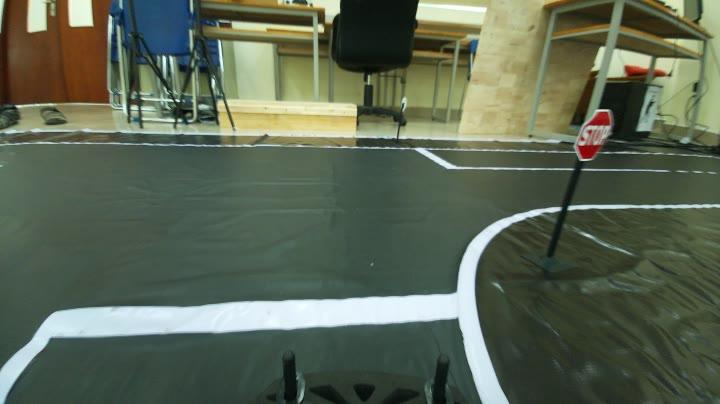stop: (572, 106, 617, 166)
